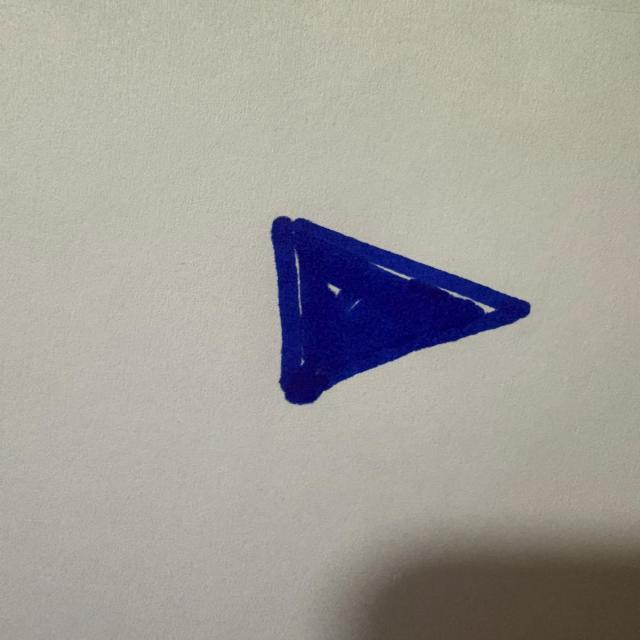Triangle: (271, 217, 530, 404)
